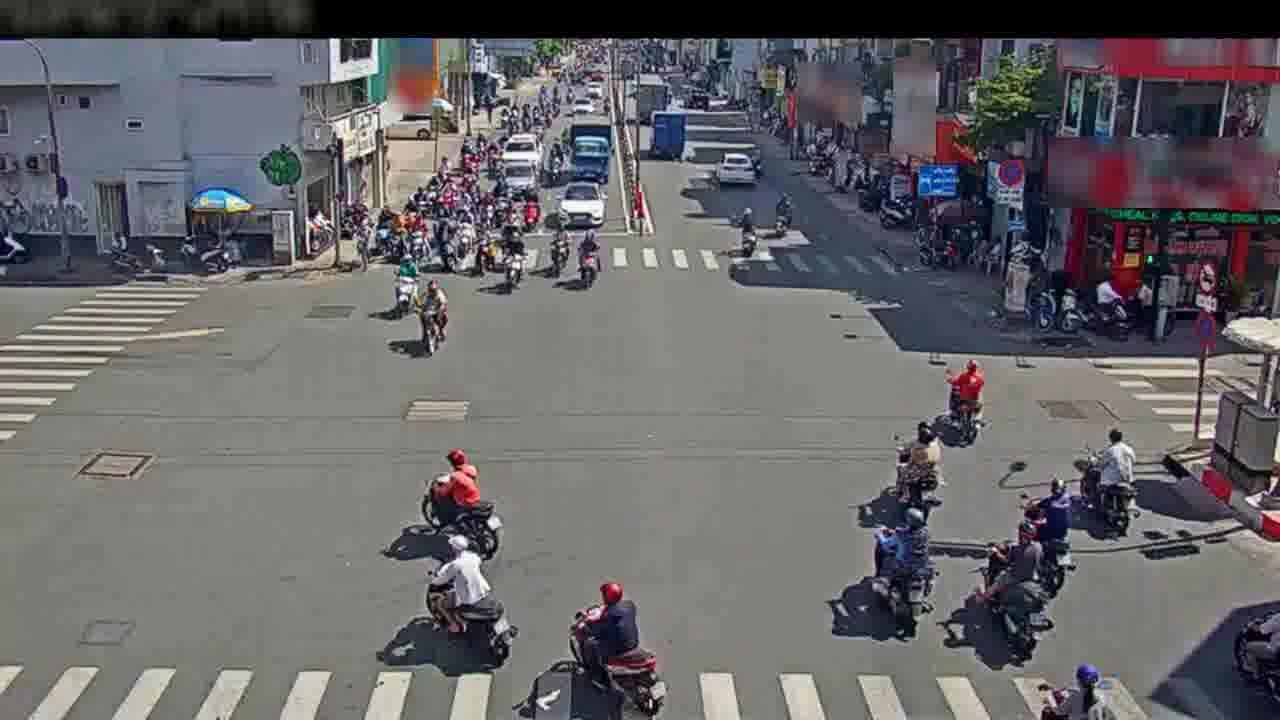8: (559, 114, 610, 191), (640, 103, 687, 165)
container: (499, 137, 548, 188), (559, 180, 606, 230), (710, 145, 757, 189)
motorbike: (565, 582, 659, 705), (419, 533, 507, 658), (975, 527, 1051, 661), (872, 497, 935, 634), (423, 445, 498, 560), (1021, 481, 1072, 607), (1080, 427, 1133, 542), (891, 422, 939, 527), (1051, 648, 1117, 720), (1231, 598, 1272, 707), (946, 353, 984, 452), (416, 276, 448, 358), (388, 252, 421, 320), (435, 216, 470, 273), (497, 232, 526, 296), (468, 223, 500, 281), (576, 226, 604, 290), (733, 205, 758, 265), (542, 222, 567, 282), (771, 188, 794, 242), (380, 218, 409, 260), (514, 189, 537, 238), (408, 210, 428, 259)
